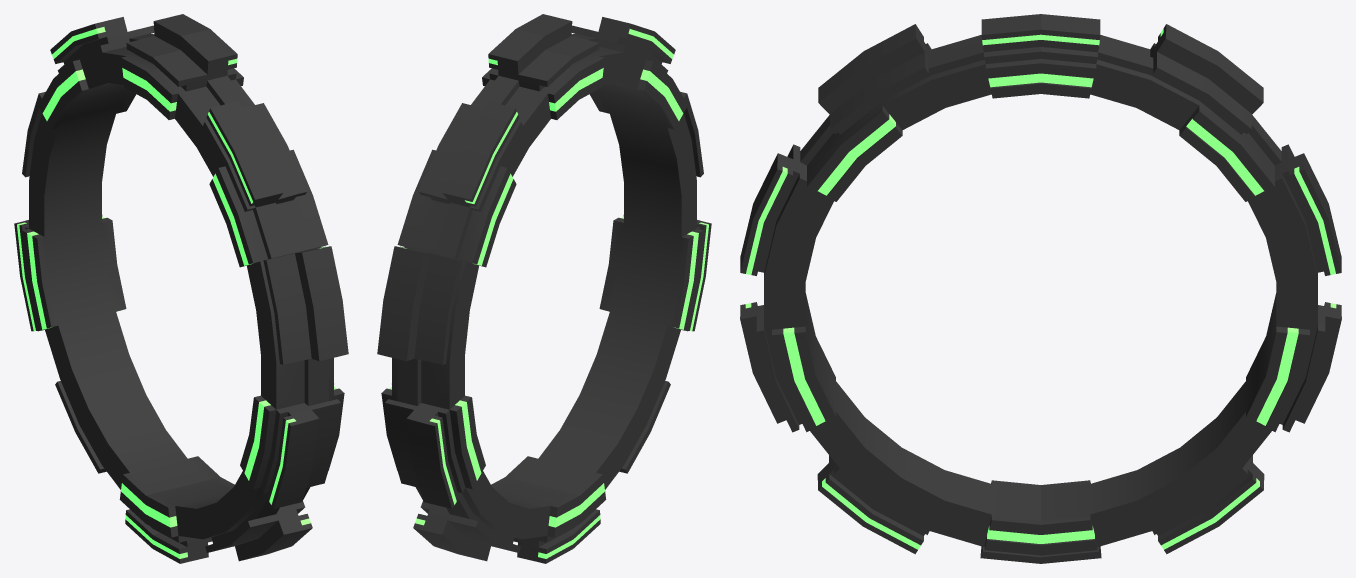
Rendered from gate_air_green.fbx.
3 views of the same model, side by side, from view 1: azimuth 30°, elevation 25°; view 2: azimuth 150°, elevation 25°; view 3: azimuth 270°, elevation 25° (orthographic). The views are drawn at different scales.
Visible parts, largest first — view 1: gate_air_green; view 2: gate_air_green; view 3: gate_air_green.
Part boxes in pixels (x1=…): gate_air_green: x1=14, y1=14, x2=348, y2=563; gate_air_green: x1=377, y1=14, x2=711, y2=563; gate_air_green: x1=740, y1=14, x2=1341, y2=563.
Bounding box in the file's own units: 1.12 × 7.2 × 7.14.
